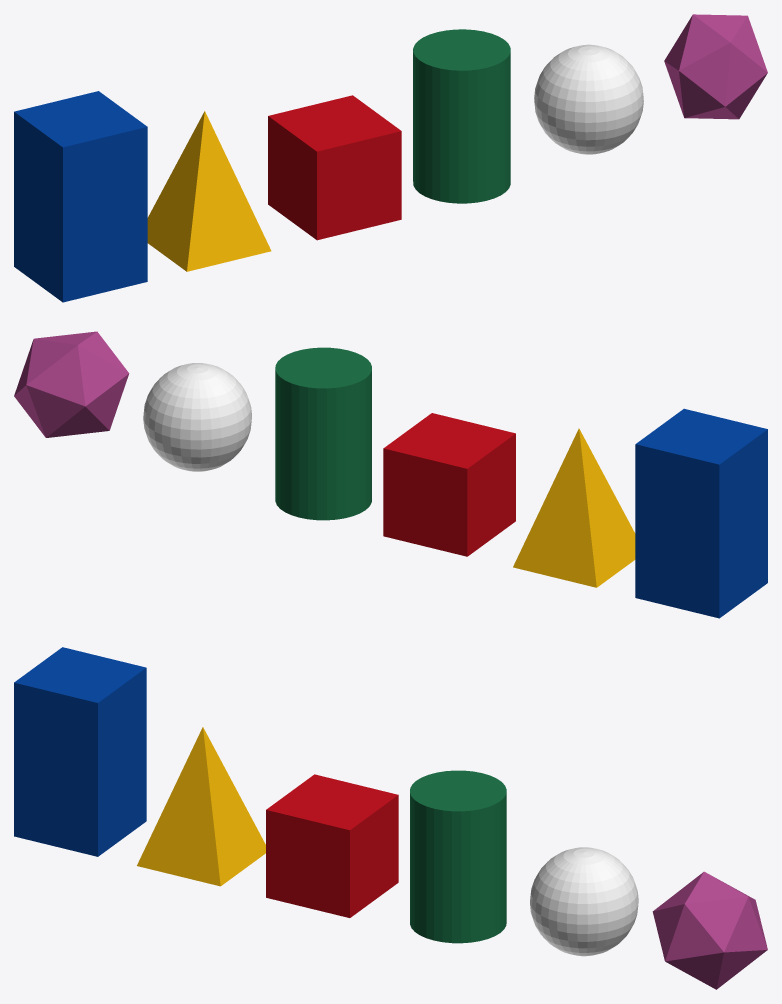
The model's file is starter_geometry.glb.
3 renders of one model, top to bottom at view 1: azimuth 30°, elevation 25°; view 2: azimuth 150°, elevation 25°; view 3: azimuth 330°, elevation 25°, orthographic.
Visible parts, largest first — view 1: Rectangle, Cylinder, Cube, Pyramid, Sphere, Icosphere; view 2: Rectangle, Cylinder, Cube, Pyramid, Sphere, Icosphere; view 3: Rectangle, Cylinder, Cube, Pyramid, Sphere, Icosphere.
Boxes of the visible parts, left/top/right/bottom form: Rectangle: left=14, top=91, right=147, bottom=302; Cylinder: left=413, top=29, right=510, bottom=203; Cube: left=268, top=95, right=401, bottom=240; Pyramid: left=147, top=111, right=271, bottom=271; Sphere: left=534, top=44, right=643, bottom=154; Icosphere: left=664, top=14, right=767, bottom=119; Rectangle: left=635, top=408, right=767, bottom=618; Cylinder: left=275, top=347, right=371, bottom=520; Cube: left=383, top=413, right=515, bottom=556; Pyramid: left=513, top=428, right=635, bottom=587; Sphere: left=143, top=363, right=251, bottom=471; Icosphere: left=14, top=331, right=129, bottom=437; Rectangle: left=14, top=647, right=146, bottom=856; Cylinder: left=410, top=770, right=506, bottom=943; Cube: left=266, top=774, right=398, bottom=917; Pyramid: left=137, top=727, right=265, bottom=886; Sphere: left=530, top=847, right=638, bottom=956; Icosphere: left=652, top=871, right=767, bottom=989.
Bounding box in the file's own units: 10.44 × 2.16 × 1.37.
